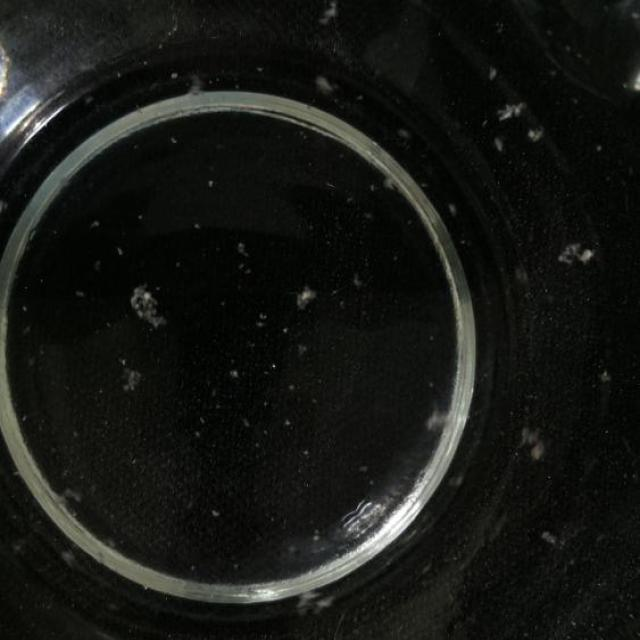fiber: (129, 282, 167, 327), (559, 237, 597, 269), (518, 420, 545, 463), (300, 590, 340, 616), (51, 481, 86, 508), (235, 235, 258, 274), (120, 364, 145, 396), (430, 408, 455, 434), (380, 167, 402, 196), (537, 528, 564, 550), (496, 98, 528, 116), (297, 284, 320, 309), (318, 6, 342, 28), (595, 364, 616, 388), (314, 74, 336, 93), (445, 197, 462, 220), (528, 124, 546, 142), (491, 134, 506, 153), (229, 363, 244, 382), (208, 505, 222, 521), (168, 130, 182, 145), (206, 174, 217, 189)
